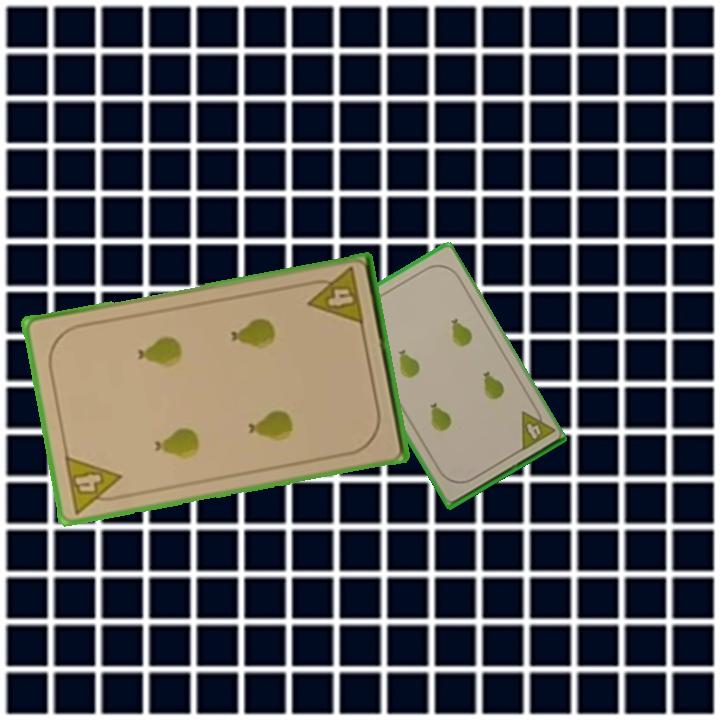4p: (61, 452, 128, 516), (302, 264, 367, 329), (516, 402, 557, 454)
